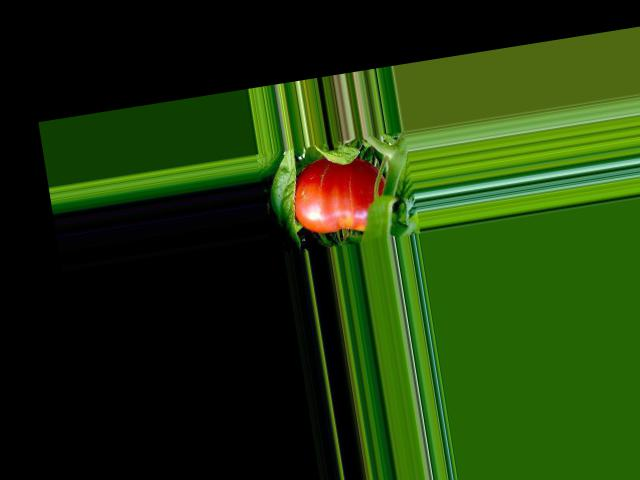tomato: (286, 149, 393, 241)
